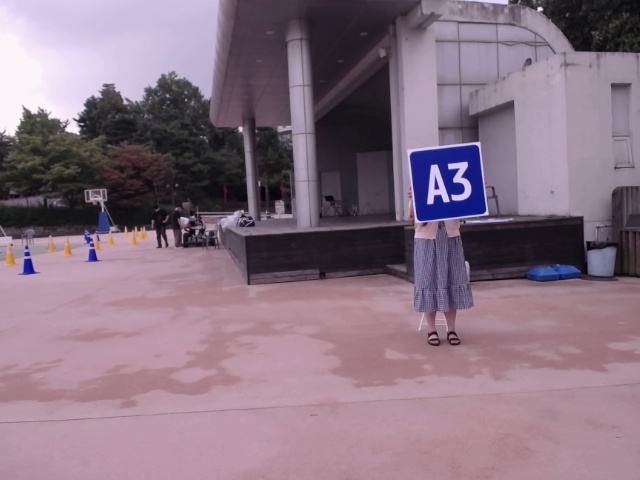delivery_a3: (410, 144, 488, 222)
